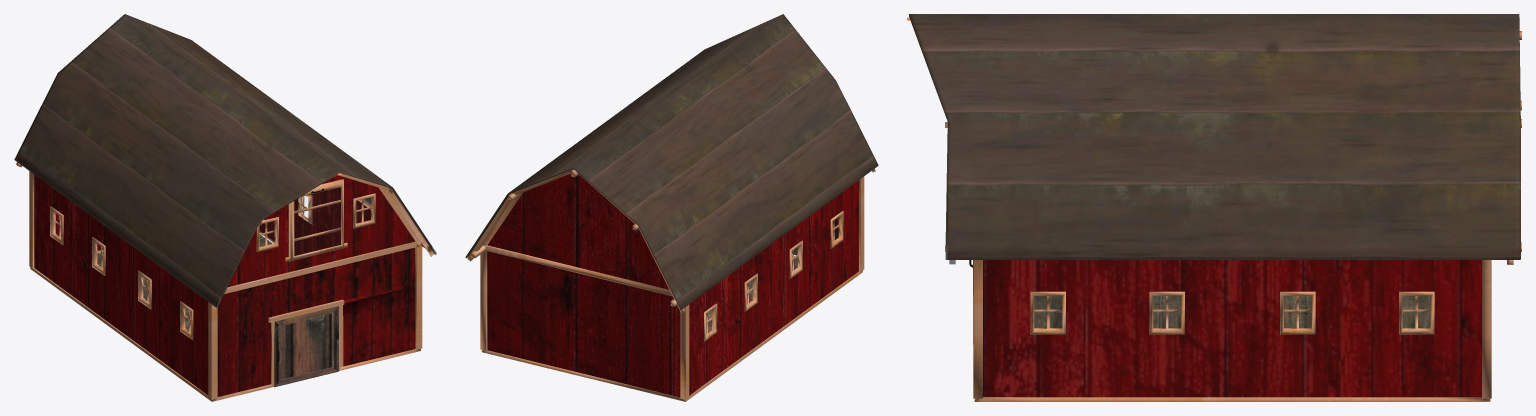
File: barn02.obj
3 views of the same model, side by side, from view 1: azimuth 30°, elevation 25°; view 2: azimuth 150°, elevation 25°; view 3: azimuth 270°, elevation 25° (orthographic). The views are drawn at different scales.
Visible parts, largest first — view 1: roof, outerwall_front, outerwall_left, door_frontbar001, door_innerbar, windows_front_frame, outerwall_front_bars003, outerwall_back_right, door_outsidebar, window_frame_left, outerwall_left_bars001, outerwall_left_bars002 (+1 smaller); view 2: roof, outerwall_back_right, outerwall_left, outerwall_front_bars003, window_frame_left, outerwall_left_bars001, back_bars, outerwall_left_bars002; view 3: roof, outerwall_back_right, outerwall_front_bars003, outerwall_left, windows_frame_right, floor, outerwall_front.
Part boxes in pixels (box(x1,y1,x2,y2)): roof: box(14, 14, 435, 307); outerwall_front: box(217, 175, 415, 396); outerwall_left: box(34, 175, 329, 394); door_frontbar001: box(211, 188, 422, 399); door_innerbar: box(281, 313, 331, 379); windows_front_frame: box(256, 179, 375, 262); outerwall_front_bars003: box(97, 173, 433, 401); outerwall_back_right: box(55, 187, 370, 255); door_outsidebar: box(274, 306, 338, 386); window_frame_left: box(50, 206, 193, 340); outerwall_left_bars001: box(29, 171, 211, 401); outerwall_left_bars002: box(32, 173, 208, 395); roof: box(465, 14, 878, 309); outerwall_back_right: box(487, 173, 680, 397); outerwall_left: box(689, 180, 858, 395); outerwall_front_bars003: box(480, 169, 875, 401); window_frame_left: box(704, 211, 843, 341); outerwall_left_bars001: box(685, 176, 864, 401); back_bars: box(467, 169, 685, 312); outerwall_left_bars002: box(689, 179, 860, 396); roof: box(909, 14, 1520, 259); outerwall_back_right: box(983, 260, 1481, 397); outerwall_front_bars003: box(907, 17, 1491, 401); outerwall_left: box(1232, 291, 1398, 397); windows_frame_right: box(1030, 291, 1434, 334); floor: box(1034, 296, 1430, 328); outerwall_front: box(973, 260, 1279, 397).
Size of the model in its own units: 2095 by 2002 by 3534.
